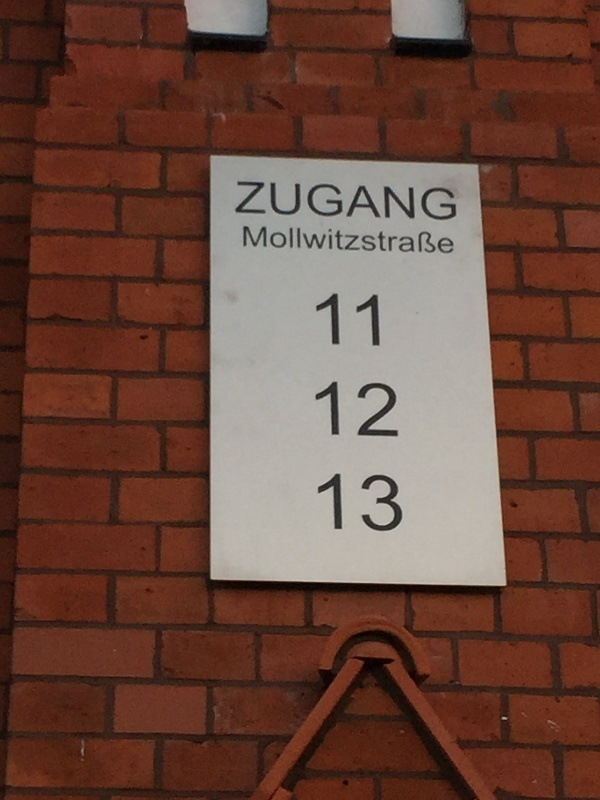text: (321, 471, 336, 533), (337, 471, 352, 533), (353, 471, 368, 533), (369, 471, 384, 533), (385, 471, 400, 533), (321, 379, 336, 438), (337, 379, 352, 438), (353, 379, 368, 438), (369, 379, 384, 438), (385, 379, 399, 438), (321, 294, 336, 348), (337, 294, 352, 348), (353, 294, 368, 348), (369, 294, 381, 348), (241, 180, 256, 222), (257, 180, 272, 222), (273, 180, 288, 222), (289, 180, 304, 222), (305, 180, 320, 222), (321, 180, 336, 222), (337, 180, 352, 222), (353, 180, 368, 222), (369, 180, 384, 222), (385, 180, 400, 222), (401, 180, 416, 222), (417, 180, 432, 222), (433, 180, 448, 222), (257, 225, 272, 255), (273, 225, 288, 255), (289, 225, 304, 255), (305, 225, 320, 255), (321, 225, 336, 255), (337, 225, 352, 255), (353, 225, 368, 255), (369, 225, 384, 255), (385, 225, 400, 255), (401, 225, 416, 255), (417, 225, 432, 255), (433, 225, 448, 255), (243, 225, 256, 255), (449, 180, 457, 222), (315, 379, 320, 438), (315, 294, 320, 348), (316, 471, 320, 533), (401, 471, 405, 533), (449, 225, 454, 255), (237, 180, 240, 222)
